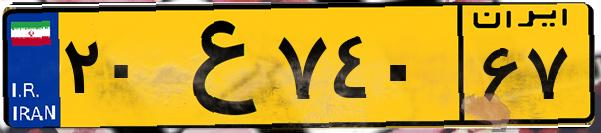0: (385, 28, 445, 110), (110, 28, 158, 98)
2: (57, 26, 110, 100)
4: (330, 28, 385, 110)
6: (475, 38, 525, 113)
7: (270, 28, 330, 110), (525, 38, 570, 115)
ع: (158, 12, 270, 120)
